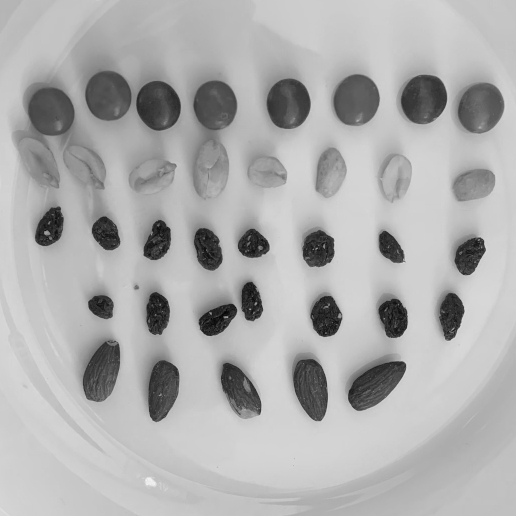almond: (347, 360, 407, 412), (82, 339, 121, 402), (220, 361, 262, 419), (292, 358, 329, 423), (147, 360, 180, 423)
mm: (333, 73, 381, 127), (458, 82, 505, 134), (401, 74, 448, 125), (266, 78, 312, 130), (135, 81, 181, 132), (85, 71, 132, 120), (28, 87, 75, 135), (193, 80, 238, 130)
peanut: (17, 136, 61, 189), (192, 138, 229, 200), (62, 144, 108, 190), (127, 157, 177, 194), (314, 146, 347, 199), (451, 168, 497, 203), (381, 154, 413, 203), (248, 156, 288, 188)
raisin: (310, 295, 343, 338), (34, 205, 66, 248), (199, 303, 238, 337), (439, 292, 465, 342), (302, 229, 335, 268), (194, 227, 223, 271), (454, 237, 486, 276), (378, 298, 408, 339), (143, 219, 172, 261), (91, 215, 121, 251), (146, 292, 170, 336), (237, 228, 270, 259), (378, 230, 406, 264), (241, 281, 264, 322), (87, 295, 114, 320)
